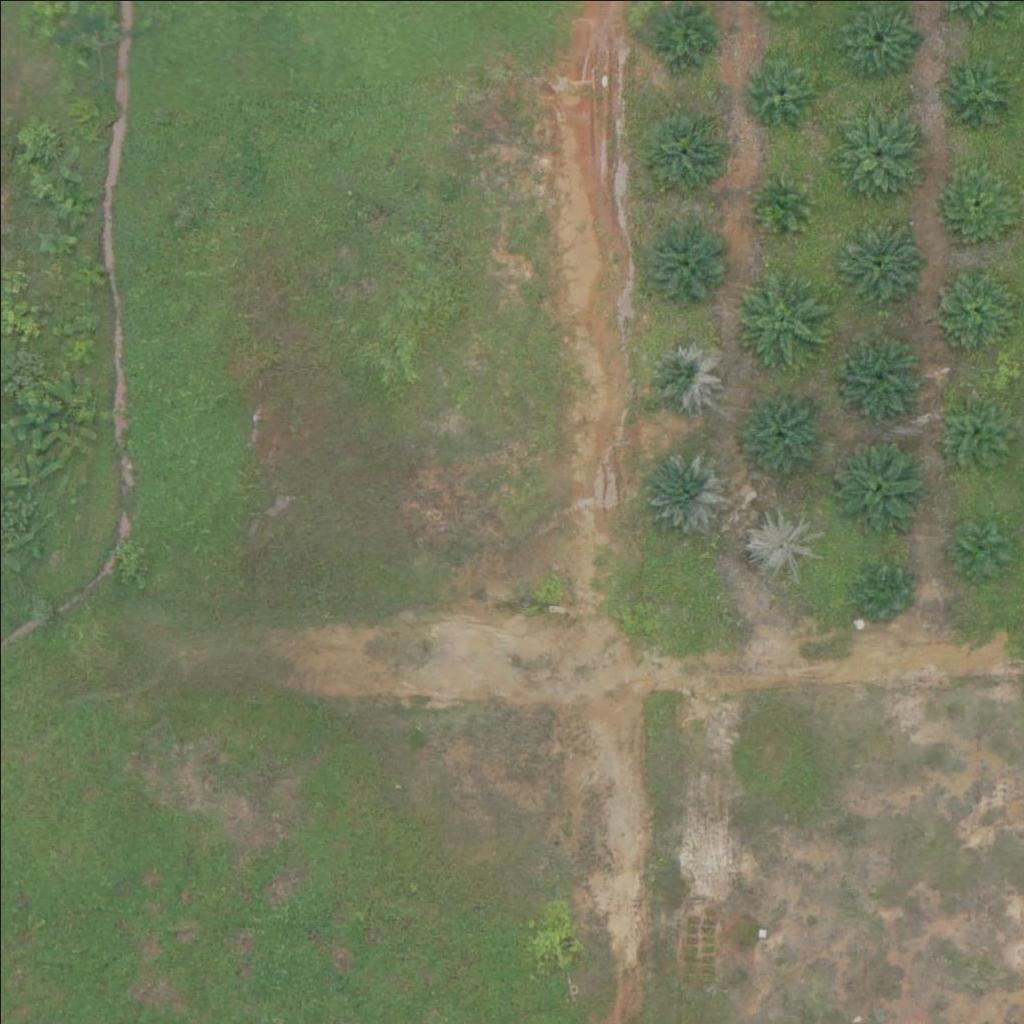Kelapa_Sawit: (826, 435, 926, 535), (727, 381, 827, 481), (727, 267, 827, 367), (932, 156, 1020, 245), (931, 50, 1019, 138), (929, 259, 1017, 347), (643, 445, 731, 533), (641, 215, 729, 303), (640, 104, 728, 192), (834, 330, 921, 418), (835, 214, 922, 302), (834, 104, 921, 192), (745, 506, 820, 582), (644, 336, 719, 412), (939, 388, 1014, 463), (739, 52, 814, 127), (949, 520, 1012, 583), (749, 169, 812, 232), (854, 560, 916, 622)
